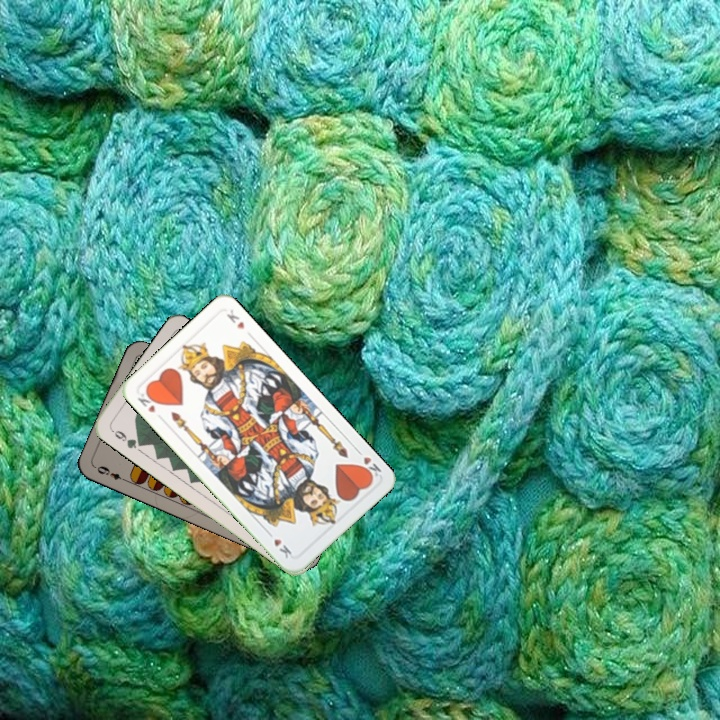E9: (91, 462, 130, 485)
G9: (106, 424, 145, 451)
HK: (352, 445, 384, 483), (133, 387, 161, 415)
